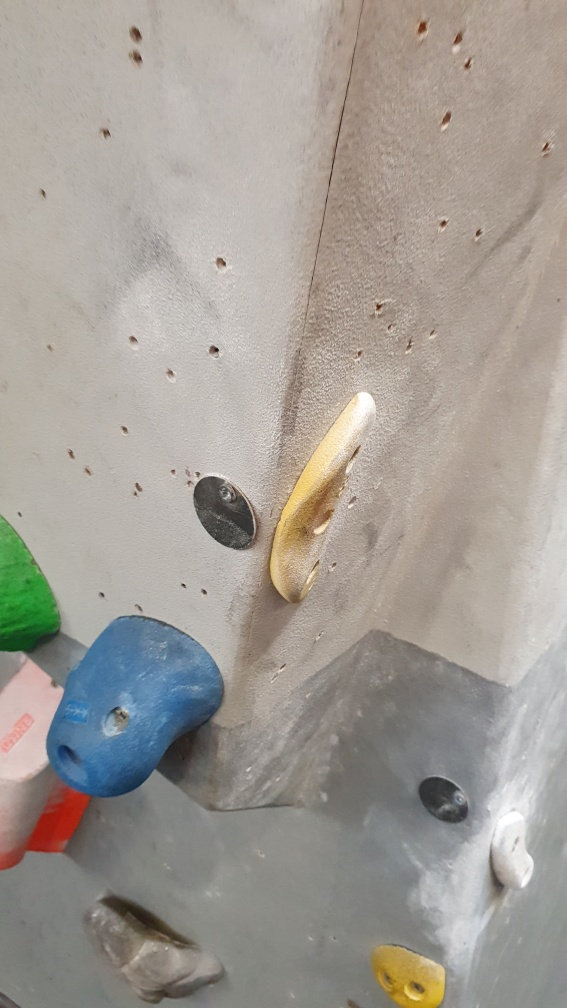Crimp: (265, 388, 381, 608)
Hand Start: (191, 471, 262, 553), (417, 773, 472, 825)
Pinch: (1, 648, 93, 876)
